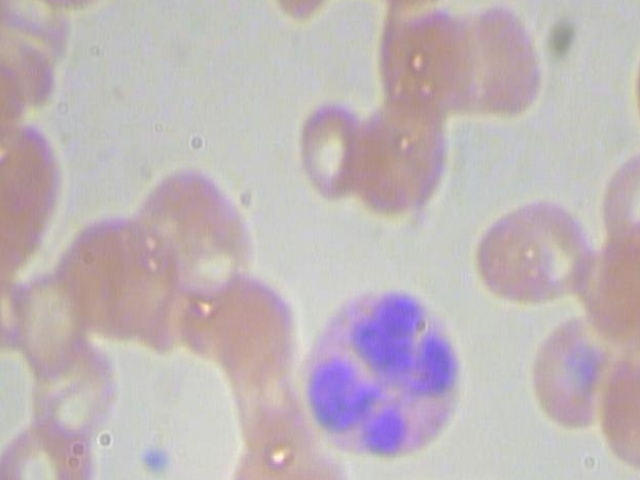Platelets: (138, 437, 172, 477)
RBC: (129, 158, 266, 320), (468, 196, 599, 309), (351, 91, 459, 221), (194, 274, 304, 380), (369, 0, 470, 112), (525, 314, 602, 427), (287, 97, 368, 204), (19, 268, 90, 383), (471, 0, 542, 114), (0, 415, 100, 480)
WBC: (285, 283, 487, 464)
